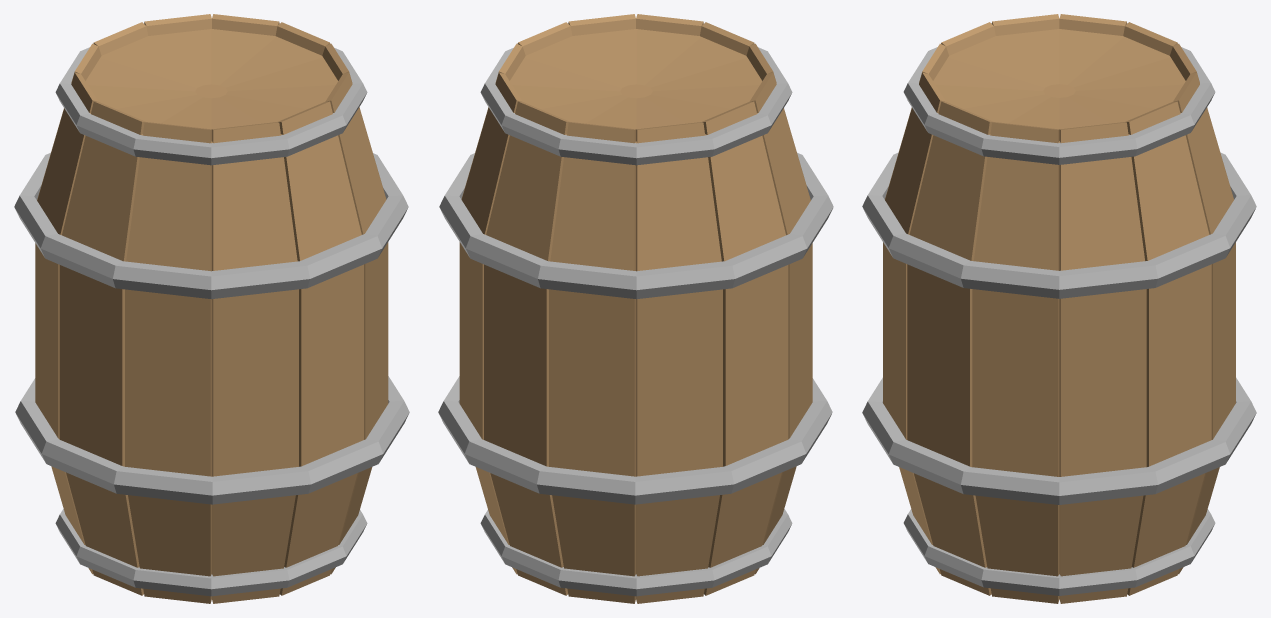
The model's file is WoodenBarrel.fbx.
3 renders of one model, left to right at view 1: azimuth 30°, elevation 25°; view 2: azimuth 150°, elevation 25°; view 3: azimuth 270°, elevation 25°, orthographic.
Parts seen in each view (by area): view 1: WoodenBarrel; view 2: WoodenBarrel; view 3: WoodenBarrel.
Boxes of the visible parts, x1=… form: WoodenBarrel: x1=14, y1=14, x2=409, y2=603; WoodenBarrel: x1=438, y1=14, x2=833, y2=603; WoodenBarrel: x1=862, y1=14, x2=1256, y2=603.
Bounding box in the file's own units: 302 × 400 × 301.
